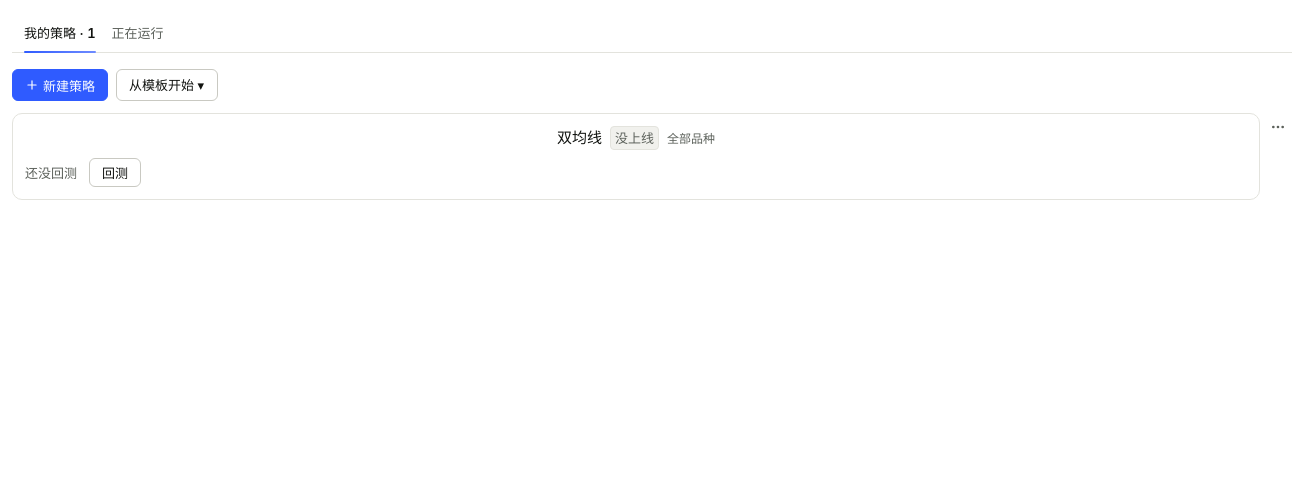
Test: off-plan backtest entries explain denial and never request a backtest
The width and height of the screenshot is (1304, 481).
Step 1. Click the button with aria-label "双均线 · " → (636, 138), box [25,126,1247,150]
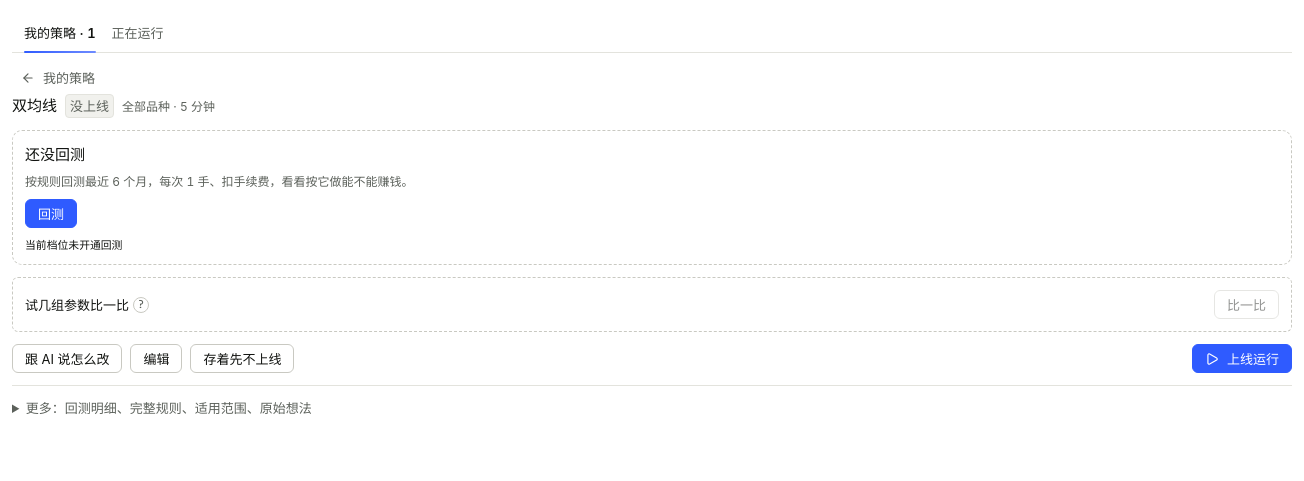
Step 2. Click the button "回测" → (51, 214), box [25,199,77,228]
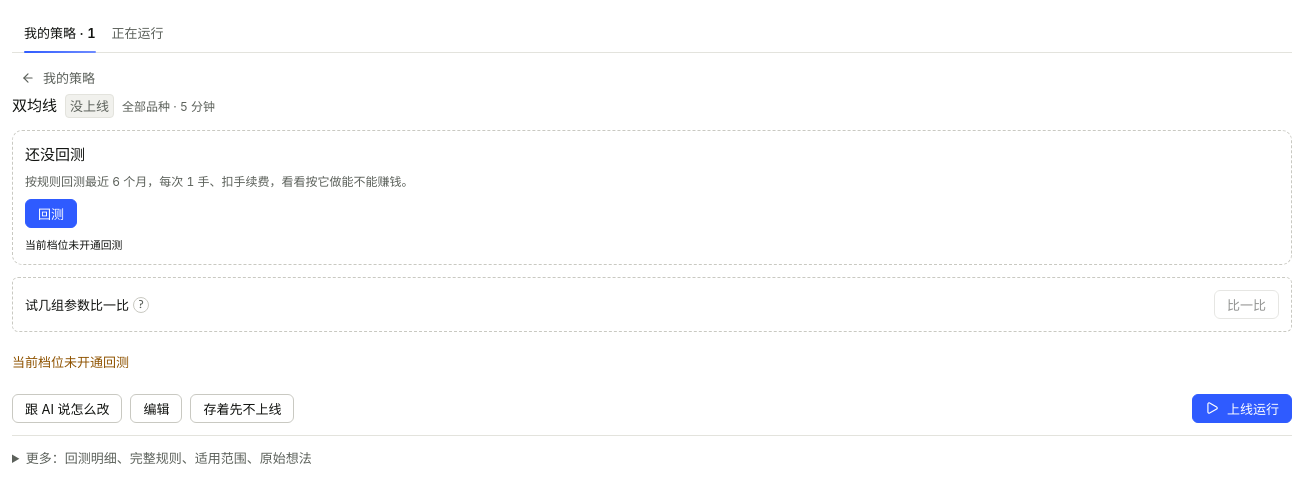
Expected: the 2nd text "当前档位未开通回测" is shown, [12,354,129,370]
